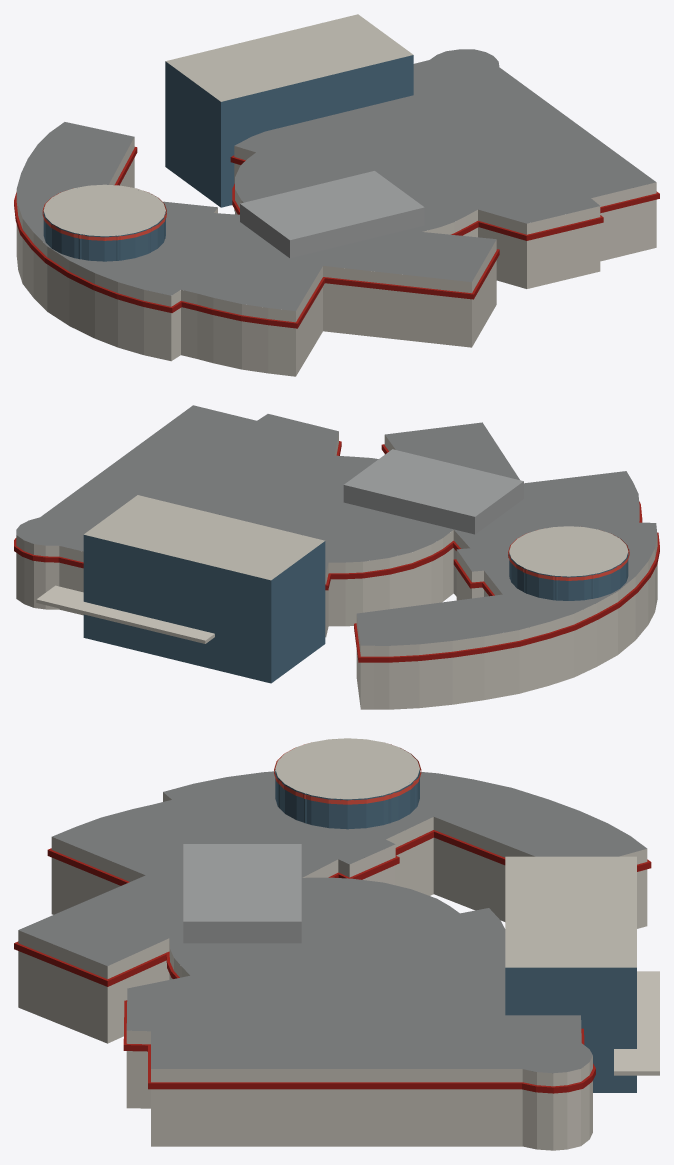
Rendered from world-of-coca-cola.glb.
3 renders of one model, top to bottom at view 1: azimuth 30°, elevation 25°; view 2: azimuth 150°, elevation 25°; view 3: azimuth 270°, elevation 25°, orthographic. The views are drawn at different scales.
Visible parts, largest first — view 1: lod1_lm_stone, lod0_bld_wall, lod0_lm_stone, lod1_bld_glass, lod0_bld_glass, lod0_bld_roof, lod0_lm_glow; view 2: lod1_lm_stone, lod0_bld_wall, lod1_bld_glass, lod0_lm_stone, lod0_bld_roof, lod0_bld_glass, lod0_lm_glow; view 3: lod1_lm_stone, lod0_bld_wall, lod0_lm_stone, lod0_bld_glass, lod0_bld_roof, lod1_bld_glass, lod0_lm_glow.
Boxes of the visible parts, bbox=[...] form: lod1_lm_stone: bbox=[14, 14, 659, 327]; lod0_bld_wall: bbox=[16, 137, 656, 376]; lod0_lm_stone: bbox=[14, 147, 659, 328]; lod1_bld_glass: bbox=[44, 55, 413, 260]; lod0_bld_glass: bbox=[43, 62, 220, 261]; lod0_bld_roof: bbox=[43, 184, 165, 236]; lod0_lm_glow: bbox=[42, 192, 166, 240]; lod1_lm_stone: bbox=[14, 405, 658, 662]; lod0_bld_wall: bbox=[16, 432, 657, 709]; lod1_bld_glass: bbox=[83, 535, 593, 683]; lod0_lm_stone: bbox=[14, 441, 659, 662]; lod0_bld_roof: bbox=[509, 526, 628, 576]; lod0_bld_glass: bbox=[309, 543, 628, 613]; lod0_lm_glow: bbox=[508, 533, 629, 580]; lod1_lm_stone: bbox=[14, 744, 659, 1092]; lod0_bld_wall: bbox=[18, 792, 647, 1150]; lod0_lm_stone: bbox=[14, 830, 659, 1093]; lod0_bld_glass: bbox=[275, 769, 636, 1092]; lod0_bld_roof: bbox=[275, 738, 419, 799]; lod1_bld_glass: bbox=[279, 778, 636, 1092]; lod0_lm_glow: bbox=[274, 747, 421, 804].
Size of the model in its own units: 111 by 21 by 98.24.
